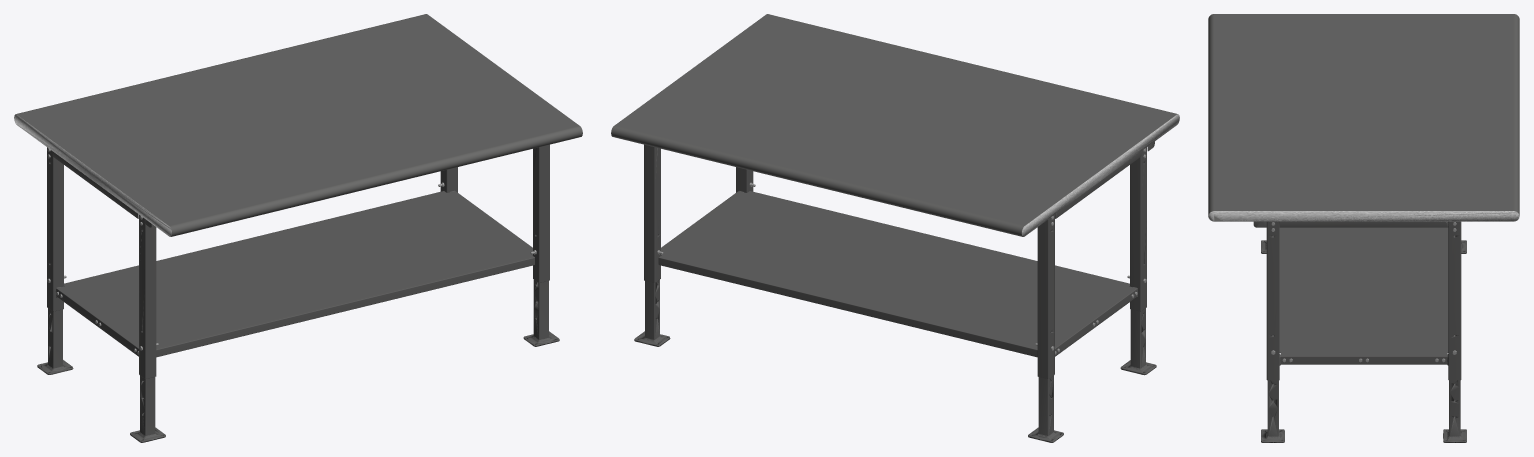
Rendered from work_table.glb.
The picture shows the model from 3 angles, left to right: view 1: azimuth 30°, elevation 25°; view 2: azimuth 150°, elevation 25°; view 3: azimuth 270°, elevation 25°; orthographic projection.
Parts seen in each view (by area): view 1: work_table_mesh; view 2: work_table_mesh; view 3: work_table_mesh.
Boxes of the visible parts, x1=… form: work_table_mesh: x1=14, y1=14, x2=582, y2=442; work_table_mesh: x1=611, y1=14, x2=1179, y2=442; work_table_mesh: x1=1208, y1=14, x2=1519, y2=442.
Bounding box in the file's own units: 1.87 × 0.9941 × 1.22.
Materials: 4 (1 with a texture image).
